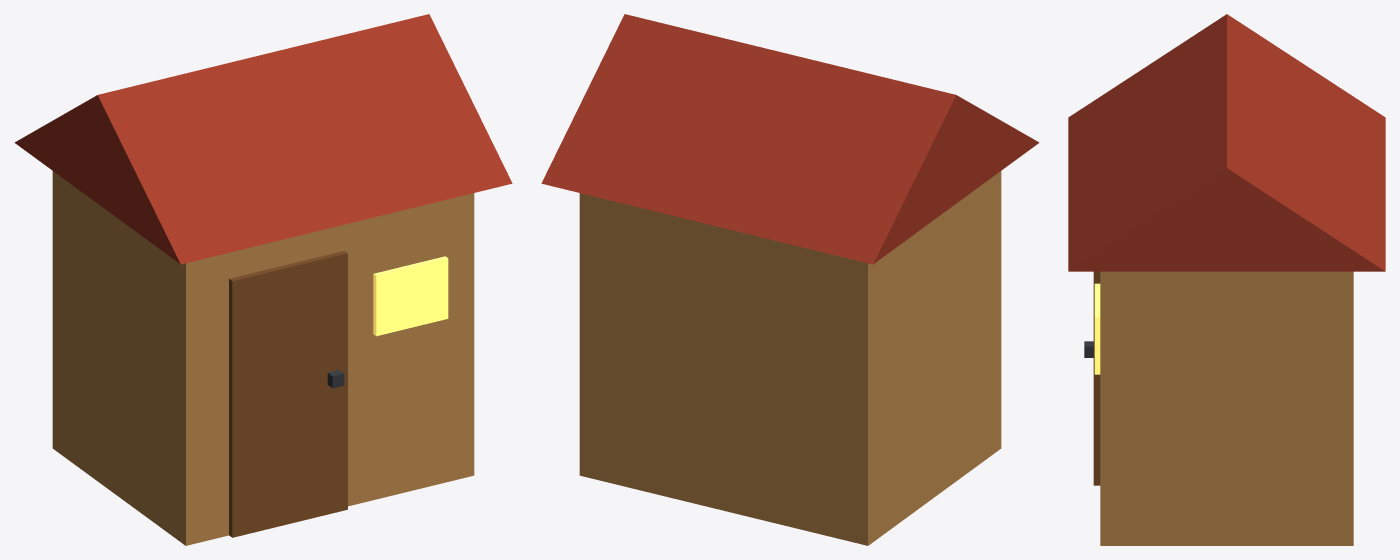
The model's file is tool_shed.glb.
3 views of the same model, side by side, from view 1: azimuth 30°, elevation 25°; view 2: azimuth 150°, elevation 25°; view 3: azimuth 270°, elevation 25° (orthographic). The views are drawn at different scales.
Visible parts, largest first — view 1: tool_shed; view 2: tool_shed; view 3: tool_shed.
Boxes of the visible parts, left/top/right/bottom form: tool_shed: left=14, top=14, right=512, bottom=545; tool_shed: left=541, top=14, right=1039, bottom=545; tool_shed: left=1068, top=14, right=1385, bottom=545.
Bounding box in the file's own units: 2.3 × 2.7 × 2.
